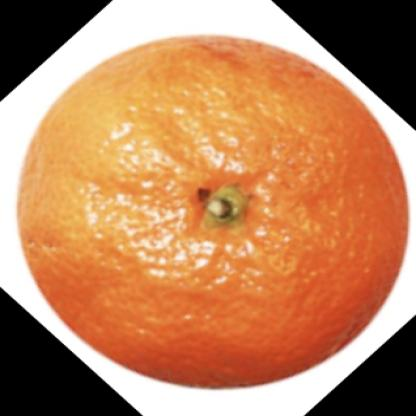fresh: (18, 37, 412, 388)
